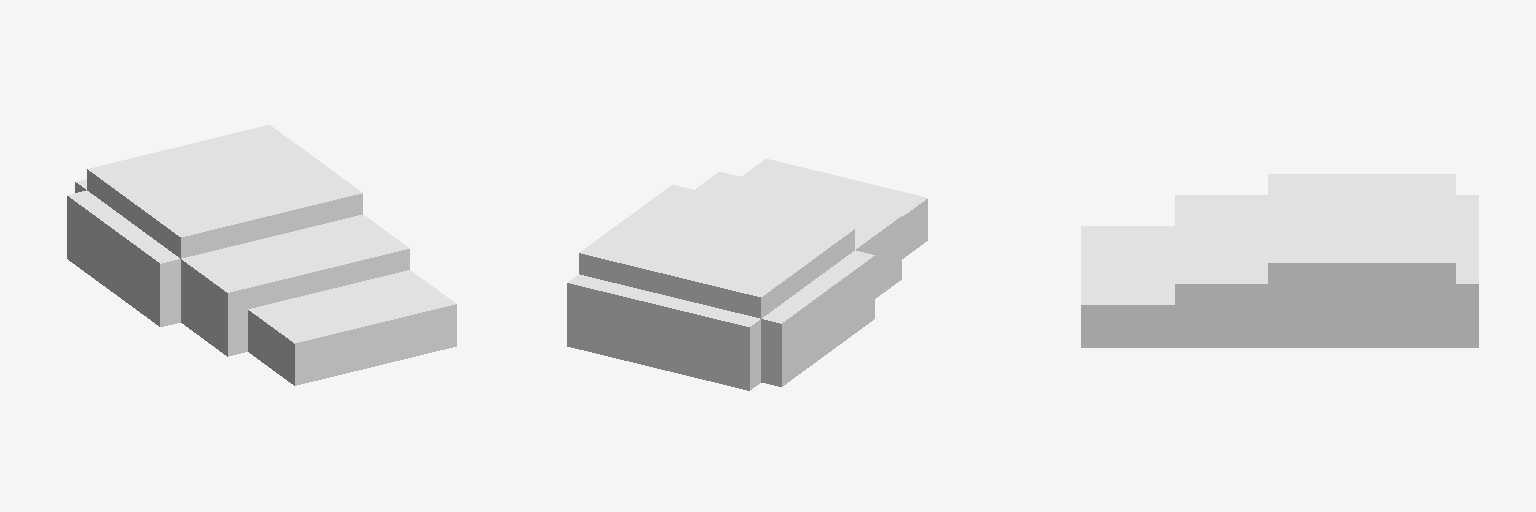
File: robotRightFoot.obj
3 views of the same model, side by side, from view 1: azimuth 30°, elevation 25°; view 2: azimuth 150°, elevation 25°; view 3: azimuth 270°, elevation 25° (orthographic).
Visible parts, largest first — view 1: object 1; view 2: object 1; view 3: object 1.
Part boxes in pixels (x1,y1,x2,y2): object 1: (67,125,456,385); object 1: (567,159,927,390); object 1: (1081,174,1478,347).
Size of the model in its own units: 1 by 0.4 by 1.7.